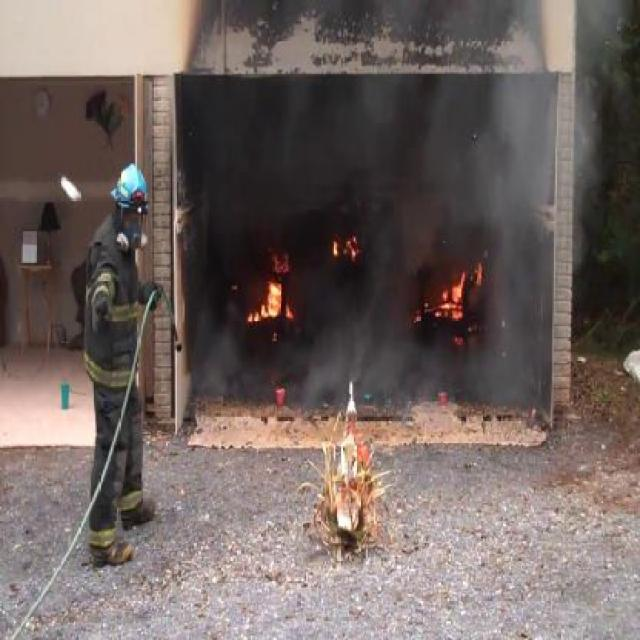fire: (412, 254, 492, 340), (234, 252, 296, 341)
smoke: (200, 111, 569, 198), (308, 217, 400, 417)
